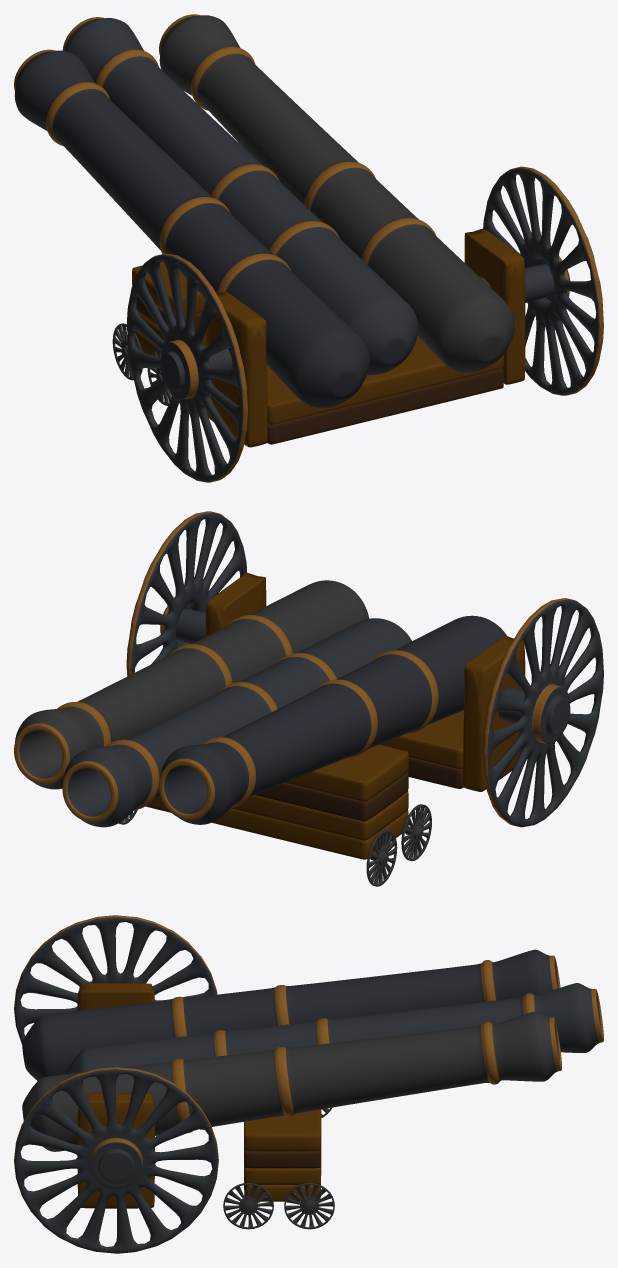
Rendered from CannonLongRange.fbx.
The picture shows the model from 3 angles, top to bottom: view 1: azimuth 30°, elevation 25°; view 2: azimuth 150°, elevation 25°; view 3: azimuth 270°, elevation 25°; orthographic projection. The views are drawn at different scales.
Parts seen in each view (by area): view 1: Cylinder.001, Cylinder.002, Circle, Cylinder, Cube, Circle.001; view 2: Cylinder.002, Circle, Cube, Cylinder.001, Cylinder, Circle.001, Circle.002; view 3: Cylinder.001, Circle, Cylinder.002, Cylinder, Cube, Circle.001, Circle.002.
Boxes of the visible parts, left/top/right/bottom form: Cylinder.001: left=159, top=14, right=514, bottom=372; Cylinder.002: left=14, top=49, right=369, bottom=407; Circle: left=126, top=166, right=603, bottom=482; Cylinder: left=62, top=17, right=418, bottom=375; Cube: left=132, top=228, right=525, bottom=447; Circle.001: left=112, top=323, right=142, bottom=380; Cylinder.002: left=159, top=615, right=512, bottom=824; Circle: left=126, top=511, right=603, bottom=827; Cube: left=145, top=573, right=525, bottom=859; Cylinder.001: left=14, top=580, right=369, bottom=789; Cylinder: left=62, top=618, right=411, bottom=827; Circle.001: left=119, top=809, right=397, bottom=886; Circle.002: left=401, top=804, right=431, bottom=860; Cylinder.001: left=22, top=1011, right=561, bottom=1151; Circle: left=14, top=915, right=218, bottom=1253; Cylinder.002: left=22, top=949, right=560, bottom=1080; Cylinder: left=65, top=983, right=603, bottom=1073; Cube: left=77, top=983, right=321, bottom=1208; Circle.001: left=284, top=1107, right=334, bottom=1229; Circle.002: left=223, top=1182, right=273, bottom=1229.
Size of the model in its own units: 1021 by 552 by 1527.
